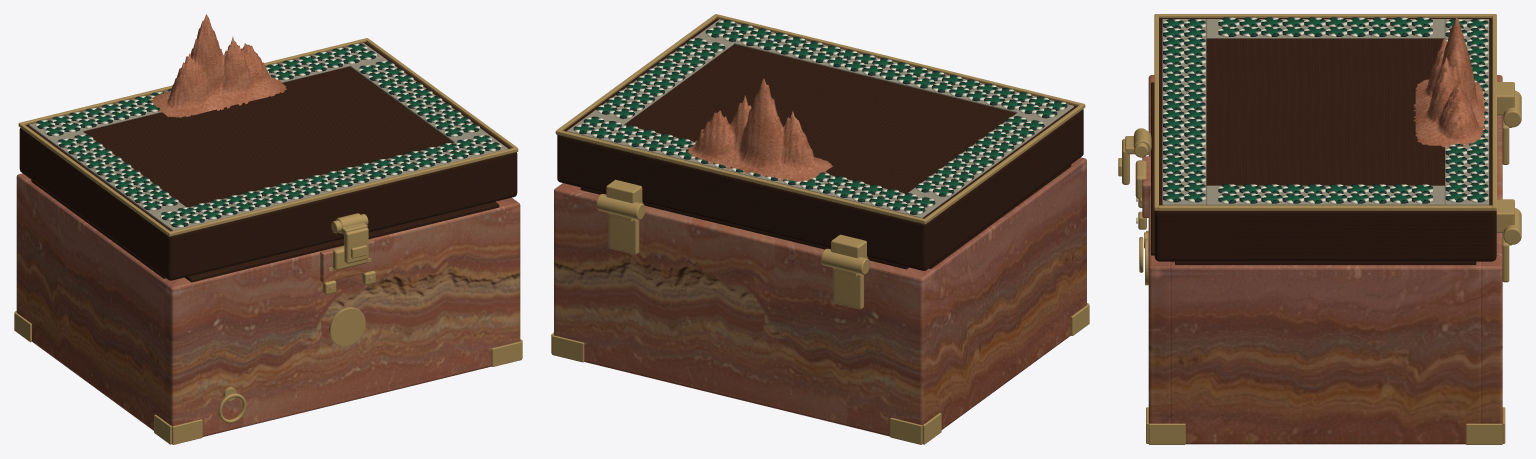
Rendered from morocco.glb.
3 views of the same model, side by side, from view 1: azimuth 30°, elevation 25°; view 2: azimuth 150°, elevation 25°; view 3: azimuth 270°, elevation 25° (orthographic). The views are drawn at different scales.
Visible parts, largest first — view 1: Rose stone / front, Lid / polished slab, Rose stone / side, Ceramic tessera / deep green glaze, Atlas ridge / rear centre eroded massif, Ceramic tessera / ivory glaze, Ceramic tessera / near black green accents, Rim / long, Brass / crown long, Tile bed / long, Rose stone / rear, Tile bed / long.001 (+10 smaller); view 2: Rose stone / rear, Lid / polished slab, Rose stone / side, Ceramic tessera / deep green glaze, Ceramic tessera / near black green accents, Atlas ridge / rear centre eroded massif, Ceramic tessera / ivory glaze, Brass / crown long.001, Tile bed / long, Tile bed / long.001, Brass / crown long, Rose stone / front (+13 smaller); view 3: Rose stone / side.001, Lid / polished slab, Ceramic tessera / deep green glaze, Ceramic tessera / ivory glaze, Ceramic tessera / near black green accents, Atlas ridge / rear centre eroded massif, Rose stone / rear, Rose stone / front, Brass / crown side.001, Tile bed / long, Tile bed / return.001, Tile bed / return (+13 smaller).
Boxes of the visible parts, box(x1,y1,x2,y2) form: Rose stone / front: box(162, 197, 520, 436); Lid / polished slab: box(19, 42, 517, 280); Rose stone / side: box(25, 180, 167, 430); Ceramic tessera / deep green glaze: box(37, 44, 499, 226); Atlas ridge / rear centre eroded massif: box(151, 14, 286, 117); Ceramic tessera / ivory glaze: box(35, 43, 501, 227); Ceramic tessera / near black green accents: box(36, 44, 500, 227); Rim / long: box(185, 201, 499, 282); Brass / crown long: box(167, 147, 518, 236); Tile bed / long: box(153, 134, 507, 230); Rose stone / rear: box(16, 173, 30, 318); Tile bed / long.001: box(29, 43, 382, 139); Rose stone / rear: box(554, 183, 932, 436); Lid / polished slab: box(557, 18, 1083, 270); Rose stone / side: box(926, 164, 1077, 429); Ceramic tessera / deep green glaze: box(575, 21, 1065, 213); Ceramic tessera / near black green accents: box(573, 20, 1067, 214); Atlas ridge / rear centre eroded massif: box(685, 78, 832, 181); Ceramic tessera / ivory glaze: box(574, 20, 1065, 214); Brass / crown long.001: box(555, 129, 927, 224); Tile bed / long: box(699, 19, 1073, 121); Tile bed / long.001: box(567, 116, 941, 218); Brass / crown long: box(714, 14, 1085, 108); Rose stone / front: box(1071, 157, 1086, 311); Rose stone / side.001: box(1170, 261, 1480, 444); Lid / polished slab: box(1154, 18, 1496, 261); Ceramic tessera / deep green glaze: box(1164, 18, 1487, 203); Ceramic tessera / ivory glaze: box(1163, 17, 1488, 203); Ceramic tessera / near black green accents: box(1163, 17, 1488, 203); Atlas ridge / rear centre eroded massif: box(1413, 17, 1486, 147); Rose stone / rear: box(1481, 75, 1502, 423); Rose stone / front: box(1148, 75, 1170, 423); Brass / crown side.001: box(1158, 205, 1492, 210); Tile bed / long: box(1162, 19, 1206, 205); Tile bed / return.001: box(1206, 185, 1444, 205); Tile bed / return: box(1206, 19, 1444, 38).
Size of the model in its own units: 3.76 by 2.96 by 3.28.
8 materials, 3 textured.
